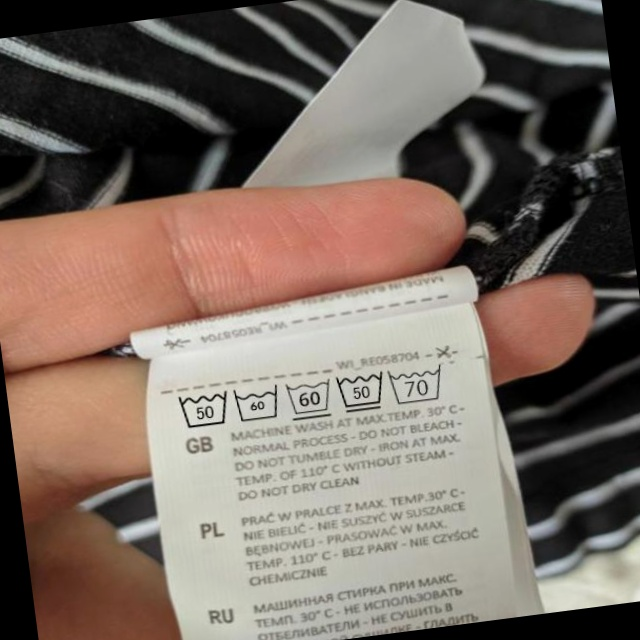50C: (177, 383, 234, 434), (336, 368, 390, 415)
60C: (284, 376, 337, 422), (232, 383, 285, 425)
70C: (388, 361, 450, 410)
